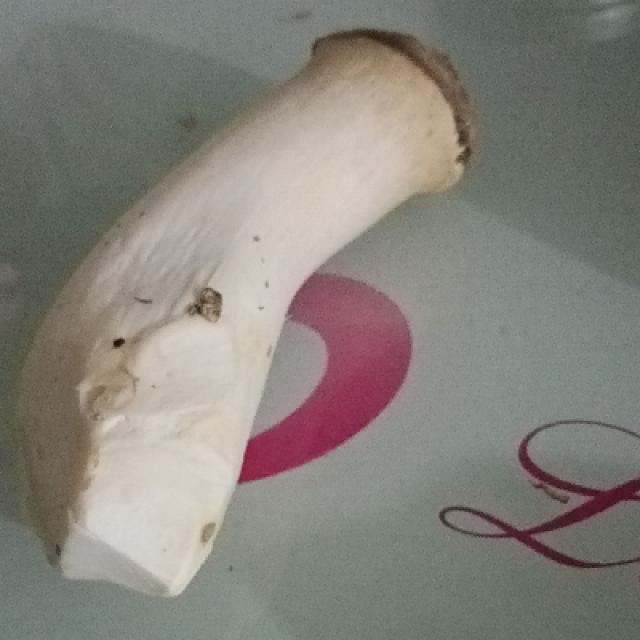Pleurotus eryngii: (16, 30, 472, 598)
